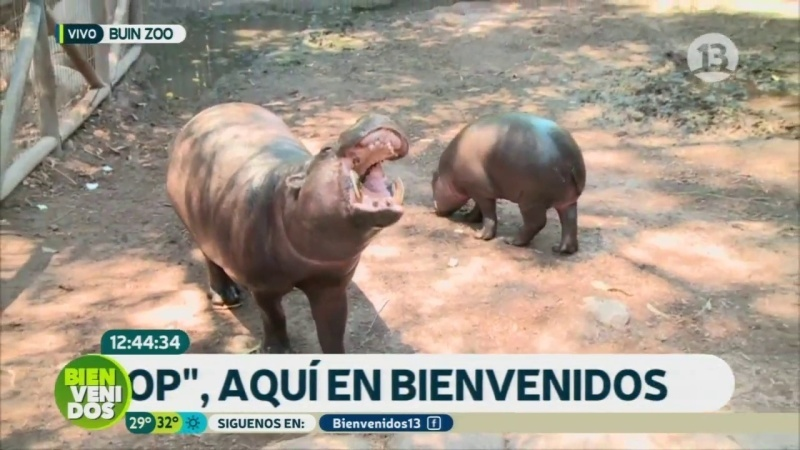hipopotamo: (144, 96, 406, 351), (414, 99, 604, 273)
